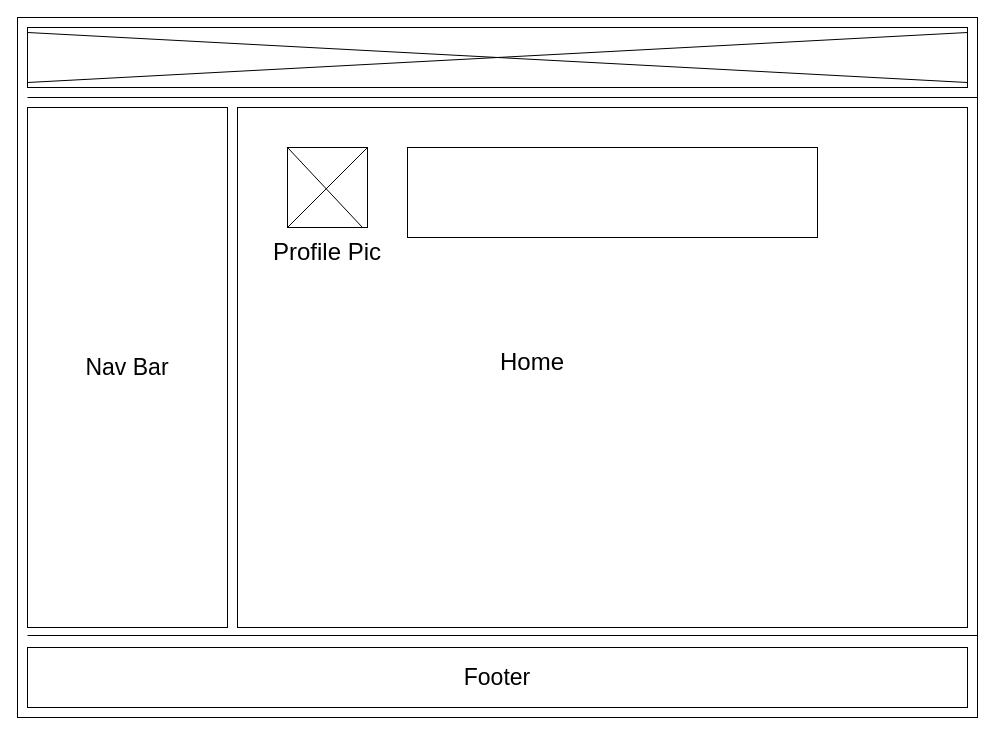
This 996x735 diagram has some shape labels left out. Here are the shapes that lost their labels. From the top down, the box of each, then its label:
(26, 26, 968, 88): Site Logo
(406, 146, 818, 238): Welcome Message
